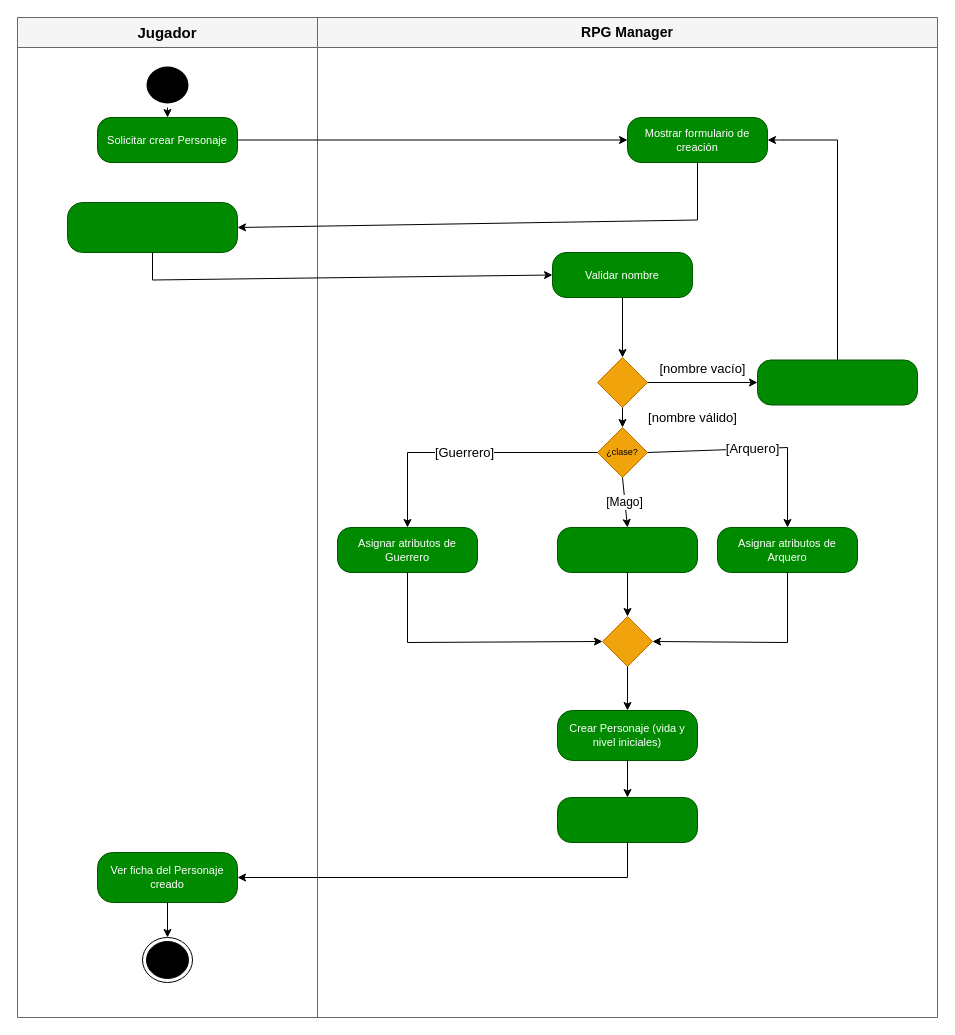
This 955x1035 diagram has some shape labels left out. The centre of each missing label's shape, as x and y in pixels:
Asignar atributos de Mago: pixel 627 549
Crear Inventario vacío del Personaje: pixel 627 819
Informar "El nombre es obligatorio": pixel 837 382
Ingresar nombre y elegir clase: pixel 152 227
¿nombre vacío?: pixel 622 382
